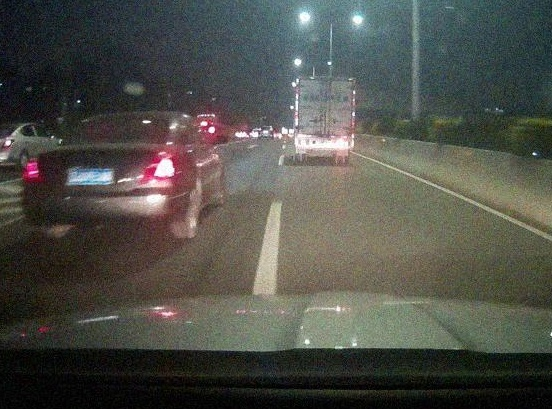L_light: (23, 156, 43, 182), (300, 140, 315, 147)
R_light: (141, 152, 177, 184), (332, 139, 346, 146)
T_light: (110, 116, 132, 119), (321, 78, 332, 82)
night-no: (296, 75, 356, 164)
night-right: (22, 112, 179, 239)
